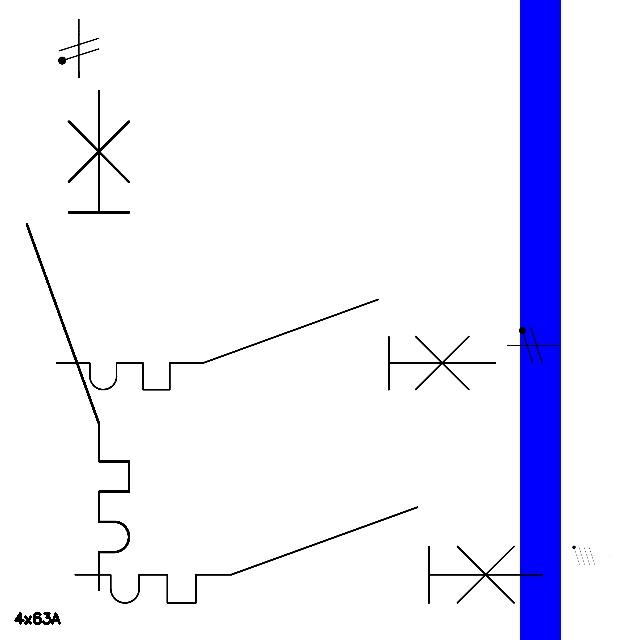interruptor_termomagnetico: (14, 78, 142, 603), (63, 495, 554, 615), (45, 288, 507, 401)
